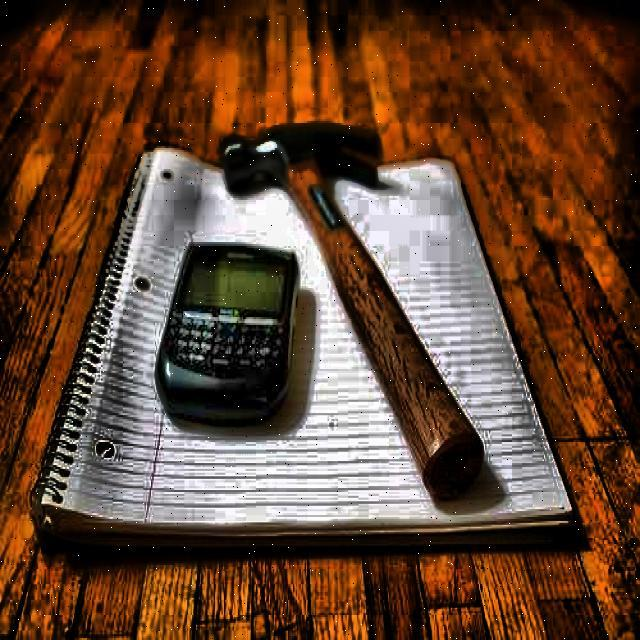hammer: (222, 123, 486, 495)
